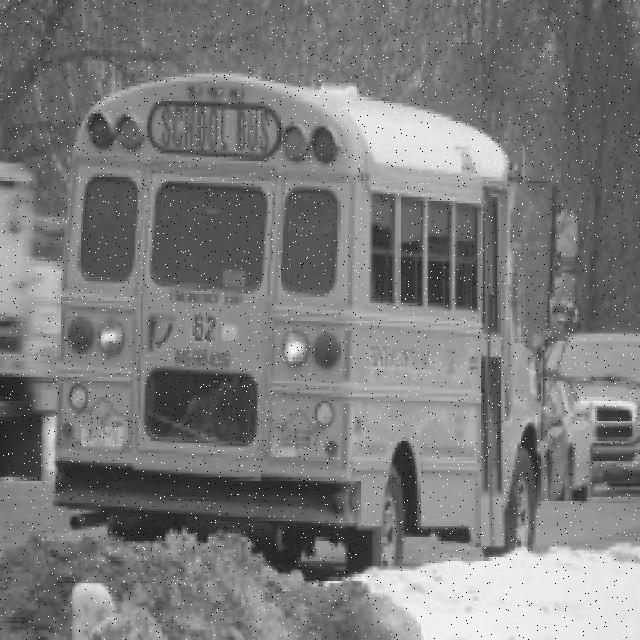Bus- Small: (54, 74, 579, 574)
